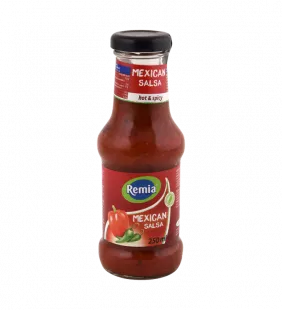REMIA: (91, 20, 196, 290)
